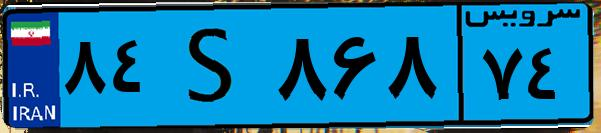4: (525, 38, 570, 115), (110, 28, 158, 98)
6: (330, 28, 385, 110)
7: (475, 38, 525, 113)
8: (270, 28, 330, 110), (385, 28, 445, 110), (57, 26, 110, 100)
S: (158, 12, 270, 120)
